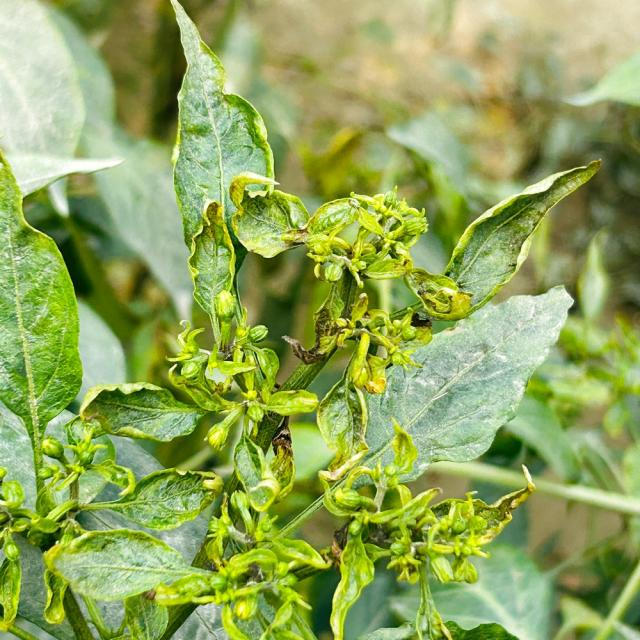Chilli_Leaf_Curl: (1, 1, 602, 638), (316, 282, 574, 492), (168, 0, 278, 350), (0, 149, 84, 503), (427, 157, 602, 320), (0, 0, 124, 198), (79, 381, 204, 443)
